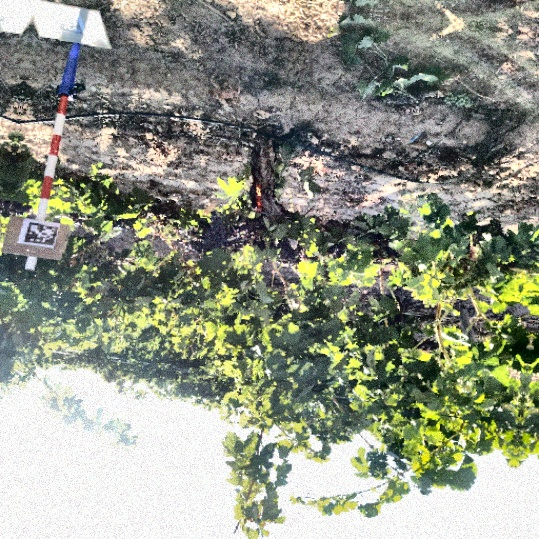QR: (25, 222, 57, 246)
